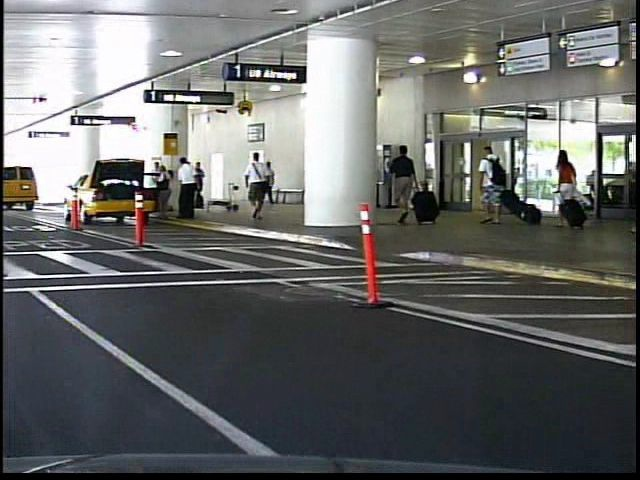person: (474, 139, 511, 224), (547, 144, 581, 229), (384, 142, 416, 228), (238, 148, 270, 222), (250, 161, 270, 209)
